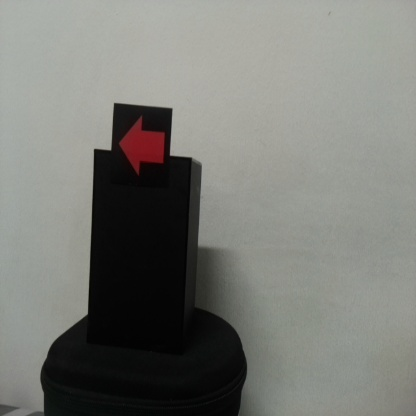id_4: (113, 105, 170, 187)
